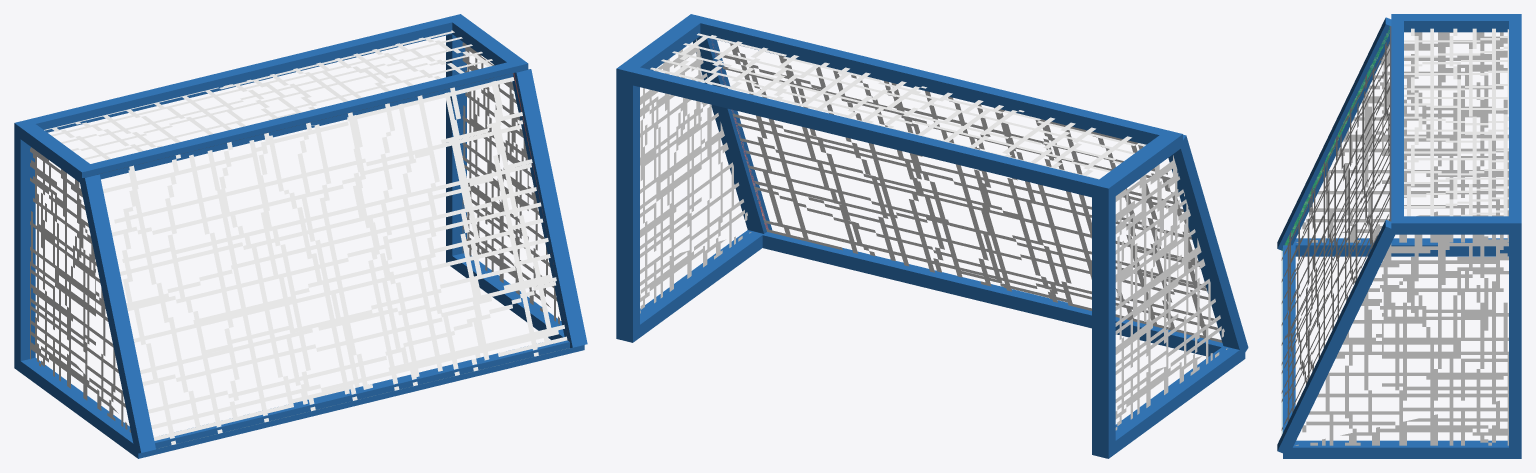
Rendered from hockey-goal-blue-bigger.gltf.
3 renders of one model, left to right at view 1: azimuth 30°, elevation 25°; view 2: azimuth 150°, elevation 25°; view 3: azimuth 270°, elevation 25°, orthographic. The views are drawn at different scales.
Parts seen in each view (by area): view 1: obj13; view 2: obj13; view 3: obj13.
Boxes of the visible parts, x1=… form: obj13: x1=14, y1=14, x2=587, y2=458; obj13: x1=616, y1=14, x2=1248, y2=458; obj13: x1=1277, y1=14, x2=1521, y2=458.
Bounding box in the file's own units: 8 × 4.2 × 3.94.
4 materials, 4 textured.
